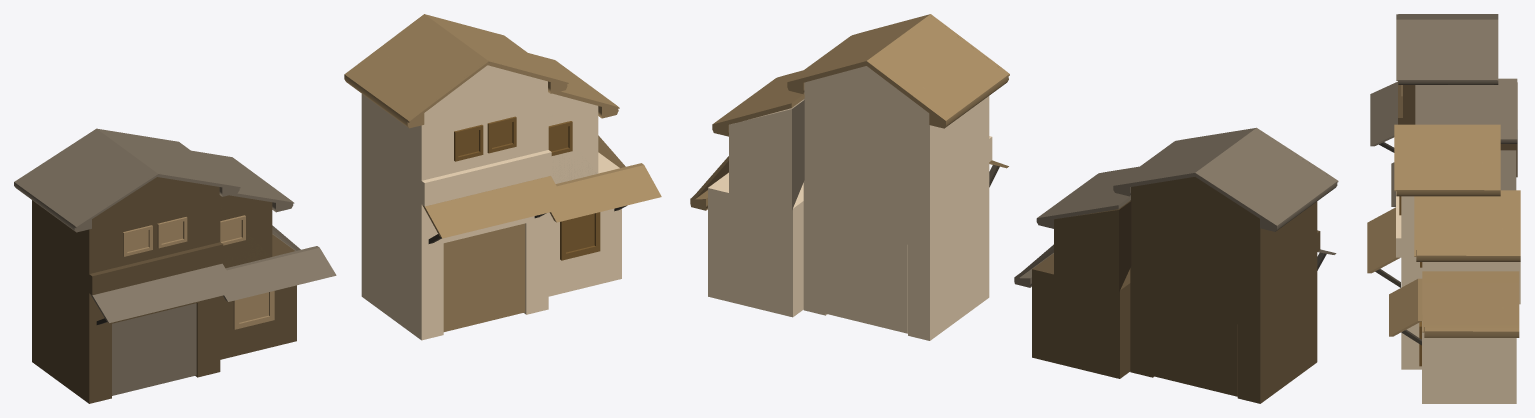
File: house.fbx
3 views of the same model, side by side, from view 1: azimuth 30°, elevation 25°; view 2: azimuth 150°, elevation 25°; view 3: azimuth 270°, elevation 25° (orthographic). The views are drawn at different scales.
Visible parts, largest first — view 1: house4, house3; view 2: house4, house3; view 3: house4, house3.
Boxes of the visible parts, box(x1,y1,x2,y2) form: house4: box(344, 14, 661, 340); house3: box(14, 128, 336, 403); house4: box(690, 14, 1009, 340); house3: box(1014, 127, 1338, 403); house4: box(1367, 124, 1520, 403); house3: box(1370, 14, 1517, 206).
Bounding box in the file's own units: 244 × 107 × 67.81.
